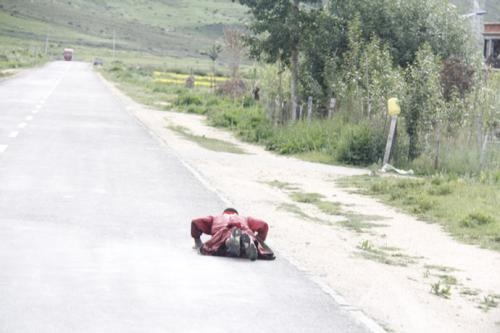falling: (184, 199, 278, 266)
